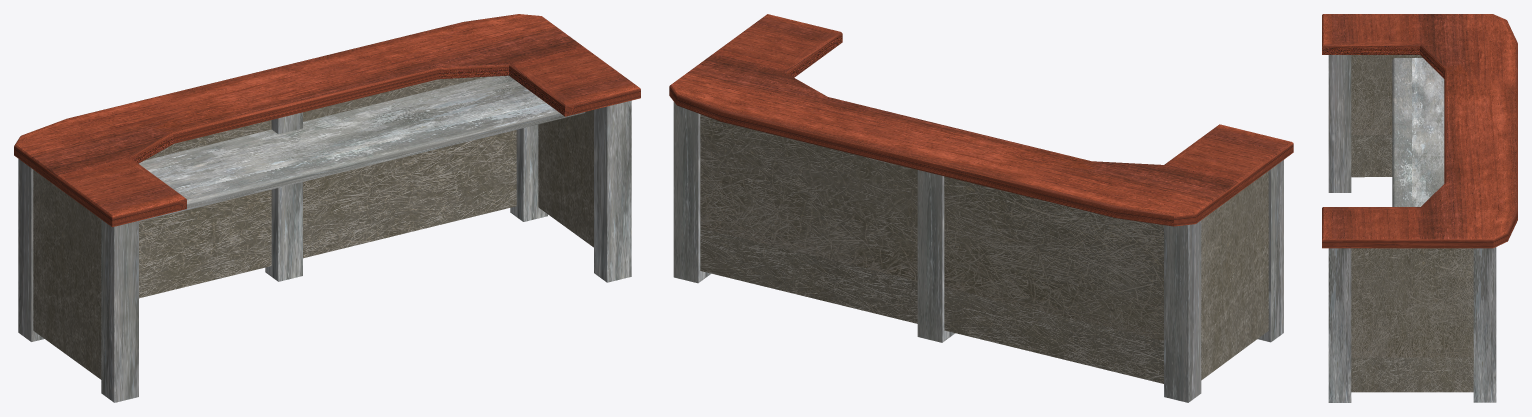
The model's file is Resepertary_Desk_Textured.fbx.
3 renders of one model, left to right at view 1: azimuth 30°, elevation 25°; view 2: azimuth 150°, elevation 25°; view 3: azimuth 270°, elevation 25°, orthographic. The views are drawn at different scales.
Visible parts, largest first — view 1: pCube2, pCube3, pCube11, pCube9, pCube6, pCube7, pCube8, pCube10, pCube5, pCube4; view 2: pCube3, pCube2, pCube9, pCube5, pCube4, pCube10, pCube6; view 3: pCube2, pCube8, pCube11, pCube9, pCube4, pCube7, pCube6.
Boxes of the visible parts, x1,y1,x2,y2 form: pCube2: (14,14,640,227); pCube3: (139,76,516,298); pCube11: (139,75,585,221); pCube9: (33,170,101,379); pCube6: (101,219,138,402); pCube7: (594,100,631,282); pCube8: (538,110,593,247); pCube10: (265,112,302,281); pCube5: (18,159,44,341); pCube4: (510,124,547,221); pCube3: (700,114,1163,383); pCube2: (669,14,1293,226); pCube9: (1201,171,1268,380); pCube5: (1164,220,1201,402); pCube4: (673,101,710,283); pCube10: (917,170,955,342); pCube6: (1257,160,1283,342); pCube2: (1322,14,1517,248); pCube8: (1351,248,1473,392); pCube11: (1392,58,1444,206); pCube9: (1351,55,1422,177); pCube4: (1473,247,1496,402); pCube7: (1328,248,1351,402); pCube6: (1328,55,1351,192).
Bounding box in the file's own units: 3.26 × 1.13 × 1.2.
Materials: 3 (3 with a texture image).
